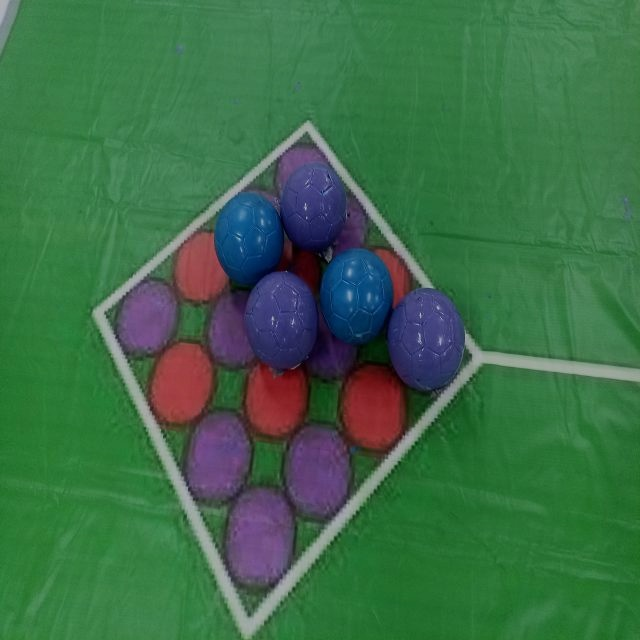blue_ball: (318, 251, 395, 343), (213, 189, 283, 286)
purple_ball: (387, 287, 471, 399), (240, 269, 322, 377), (284, 150, 351, 253)
